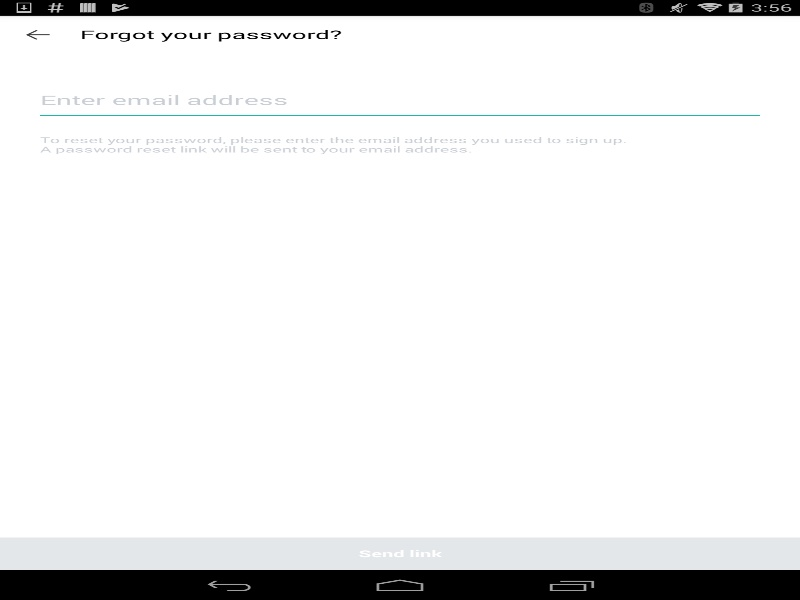Input: (40, 92, 760, 107)
